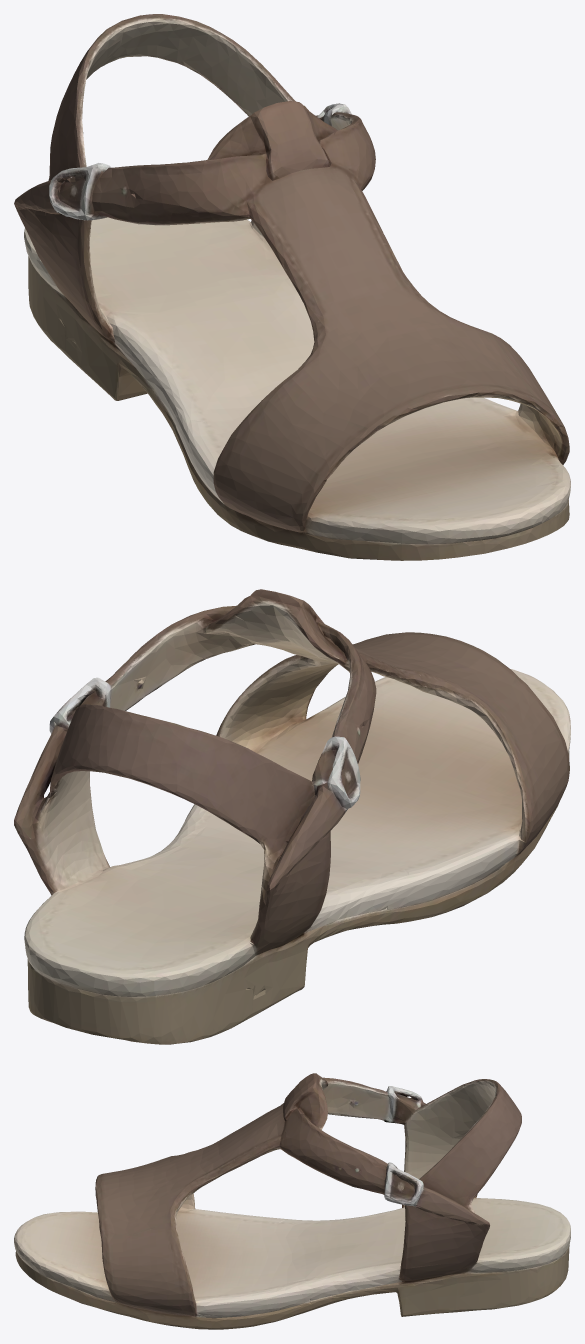
The picture shows the model from 3 angles, top to bottom: view 1: azimuth 30°, elevation 25°; view 2: azimuth 150°, elevation 25°; view 3: azimuth 270°, elevation 25°; orthographic projection. The views are drawn at different scales.
Parts seen in each view (by area): view 1: world; view 2: world; view 3: world.
Boxes of the visible parts, <box> form: world: <box>14,14,570,560</box>; world: <box>14,589,570,1044</box>; world: <box>14,1073,570,1329</box>.
Bounding box in the file's own units: 0.4271 × 0.4177 × 1.
Materials: 1 (1 with a texture image).
